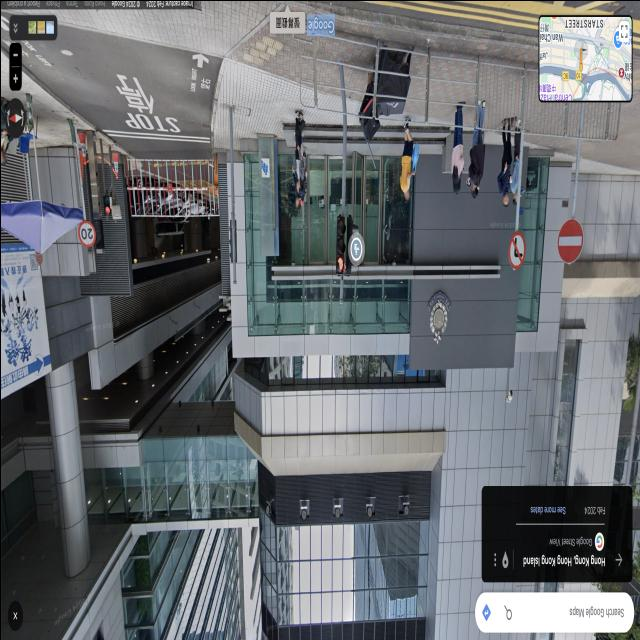Order-Sign: (556, 218, 582, 264), (508, 231, 524, 270), (76, 222, 95, 246)
